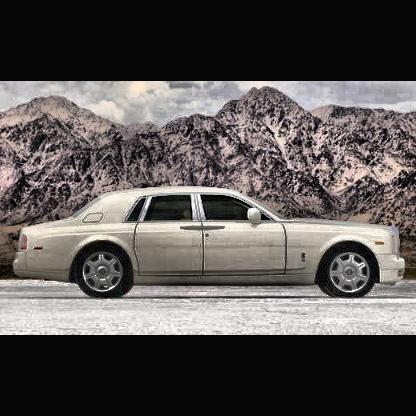Rolls-Royce Phantom Sedan 2012: (8, 162, 410, 326)
